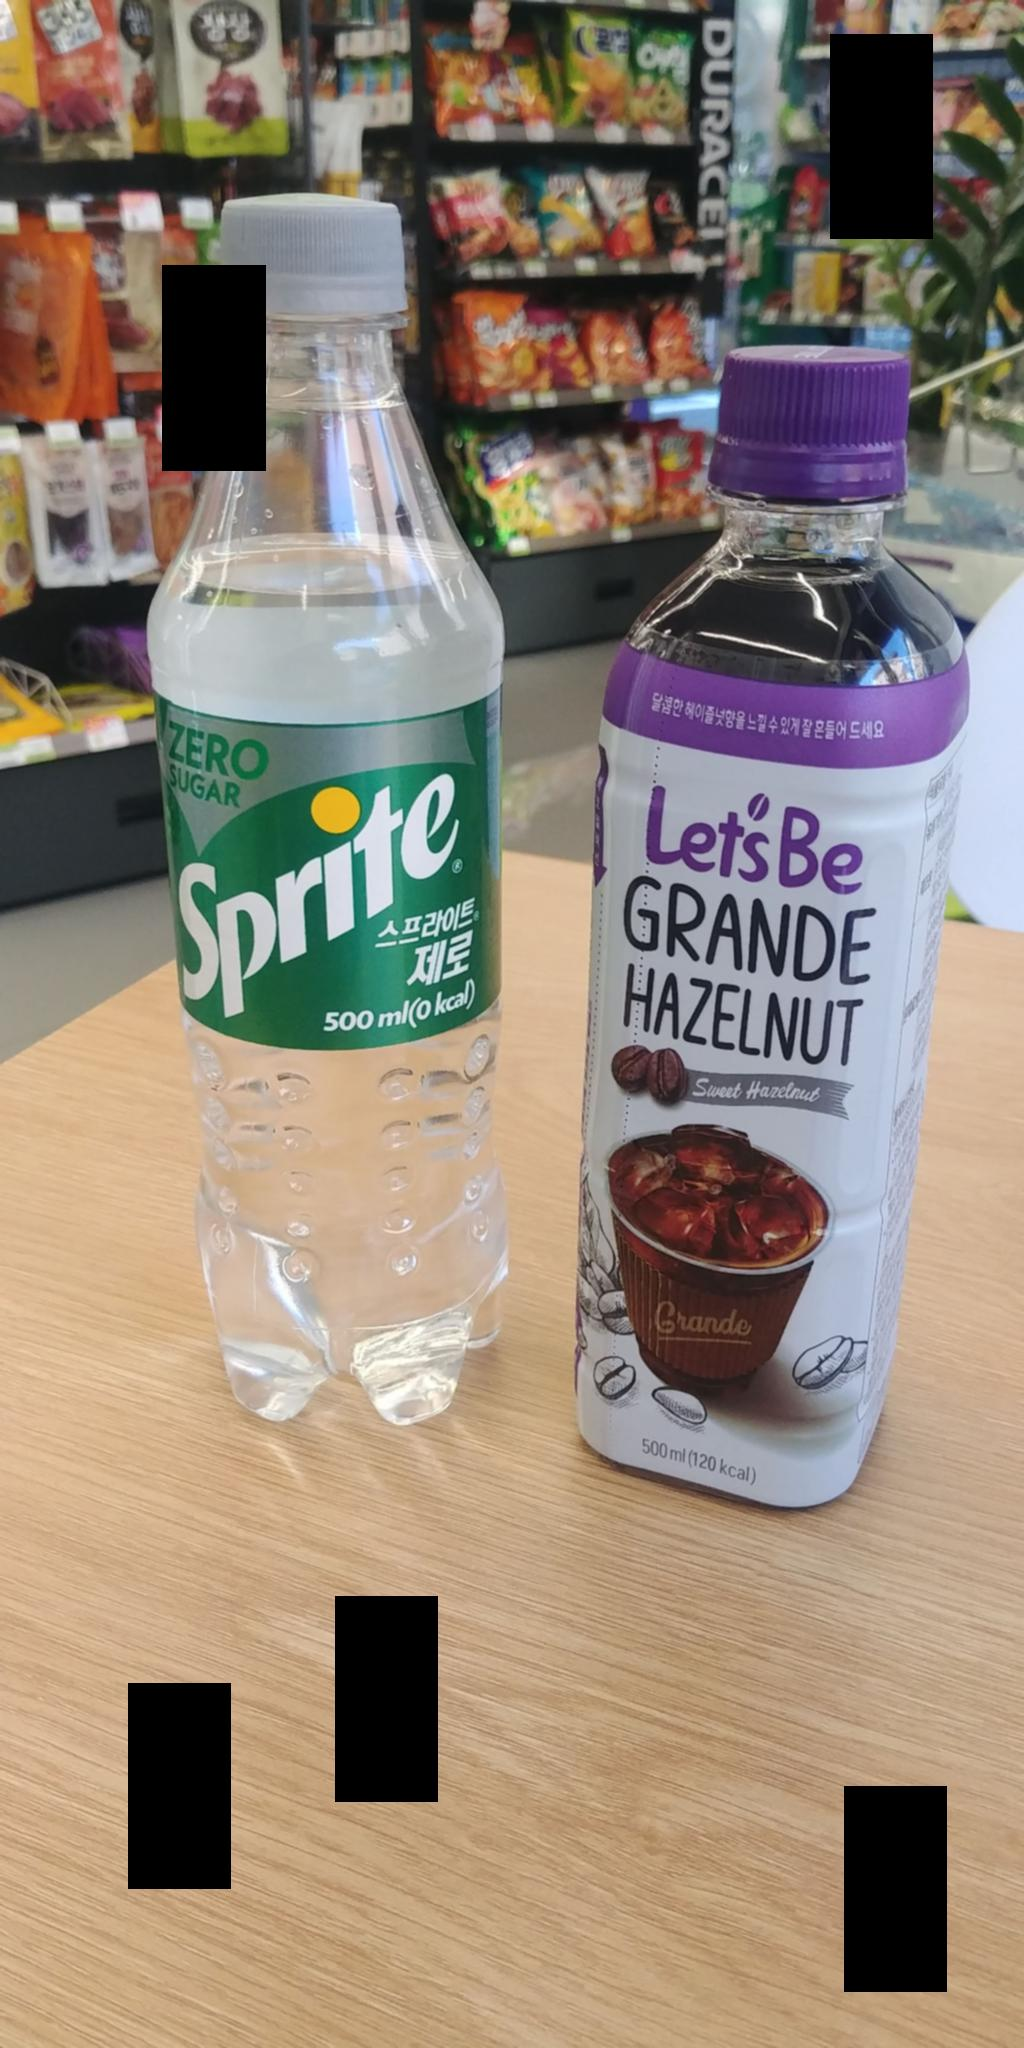letsbe_grande_hazelnut: (563, 325, 934, 1515)
sprite_zero: (125, 197, 579, 1459)
